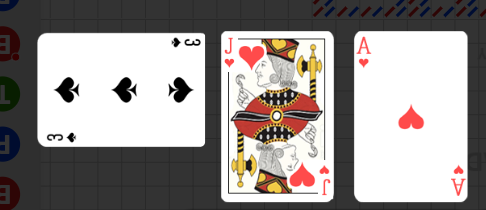3S: (45, 130, 79, 144), (168, 36, 201, 50)
AH: (357, 35, 373, 70)
